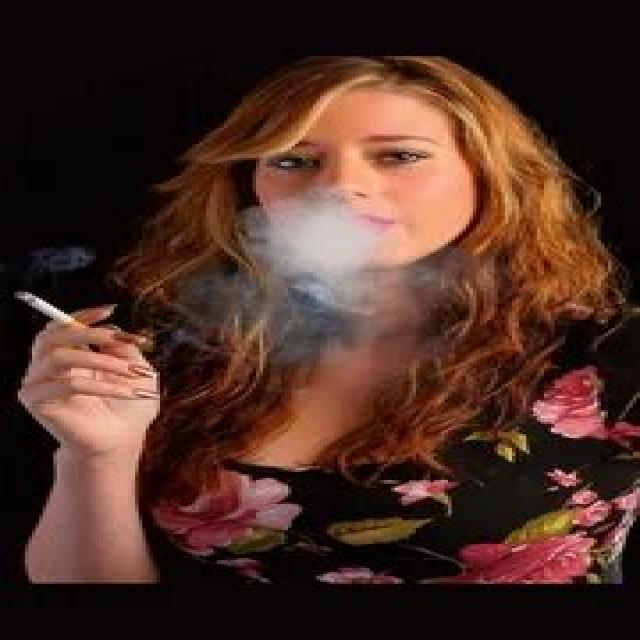smoke: (11, 290, 92, 330)
